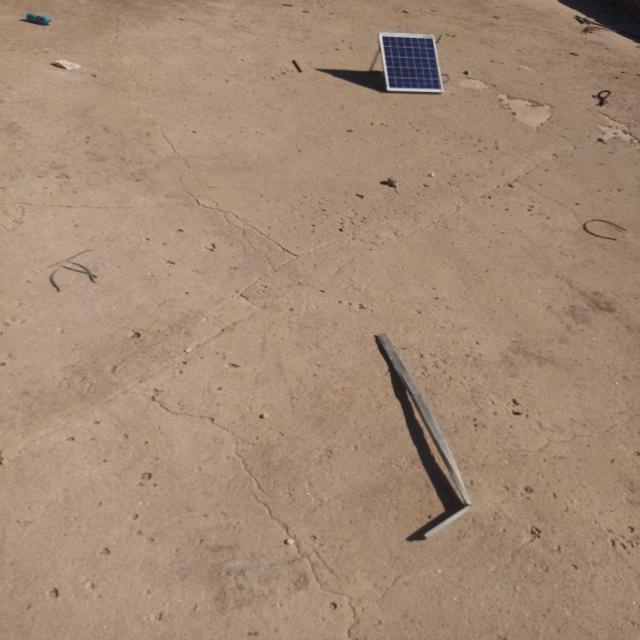no faulty: (379, 34, 444, 91)
